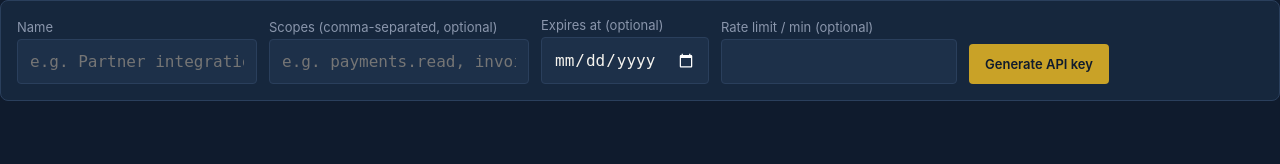
GenerateApiKeyForm › moves to the reveal step and shows the plaintext key on success
The width and height of the screenshot is (1280, 164).
Step 1. Type "Reporting bot" into the field labelled "Name" → x=137, y=62, box 17,39 -> 257,84
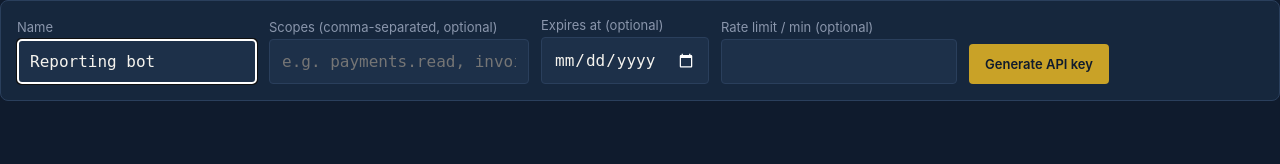
Step 2. Click the button "Generate API key" → x=1039, y=64, box 969,44 -> 1109,84
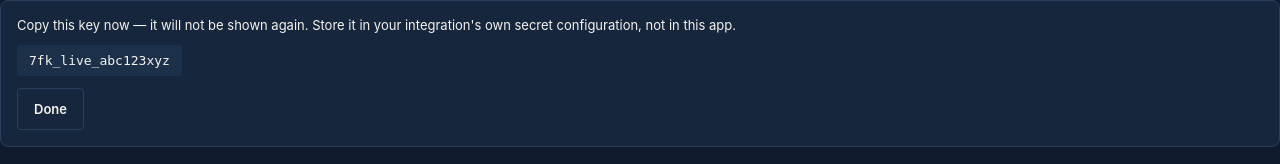
Expected: the text "7fk_live_abc123xyz" is shown, 17,45 -> 182,76
Expected: the text "will not be shown again" is shown, 17,17 -> 736,33
Expected: the label labelled "Name" is gone
